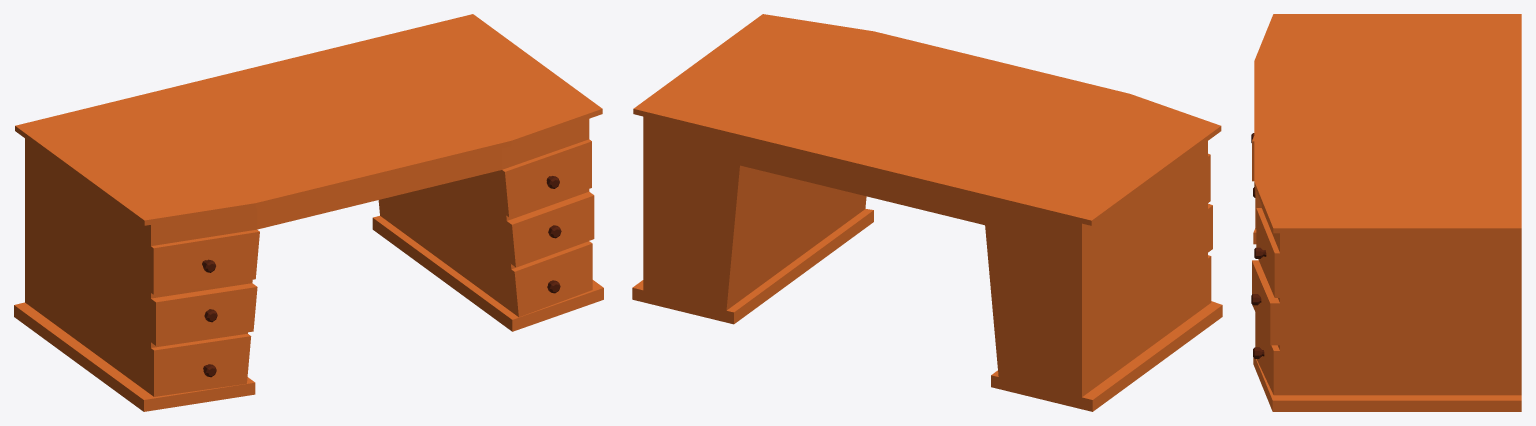
Rendered from desk.fbx.
3 renders of one model, left to right at view 1: azimuth 30°, elevation 25°; view 2: azimuth 150°, elevation 25°; view 3: azimuth 270°, elevation 25°, orthographic. The views are drawn at different scales.
Visible parts, largest first — view 1: desk; view 2: desk; view 3: desk.
Boxes of the visible parts, <box> form: desk: <box>14,14,603,411</box>; desk: <box>632,14,1222,411</box>; desk: <box>1251,14,1521,411</box>.
Size of the model in its own units: 193 by 76.75 by 103.
